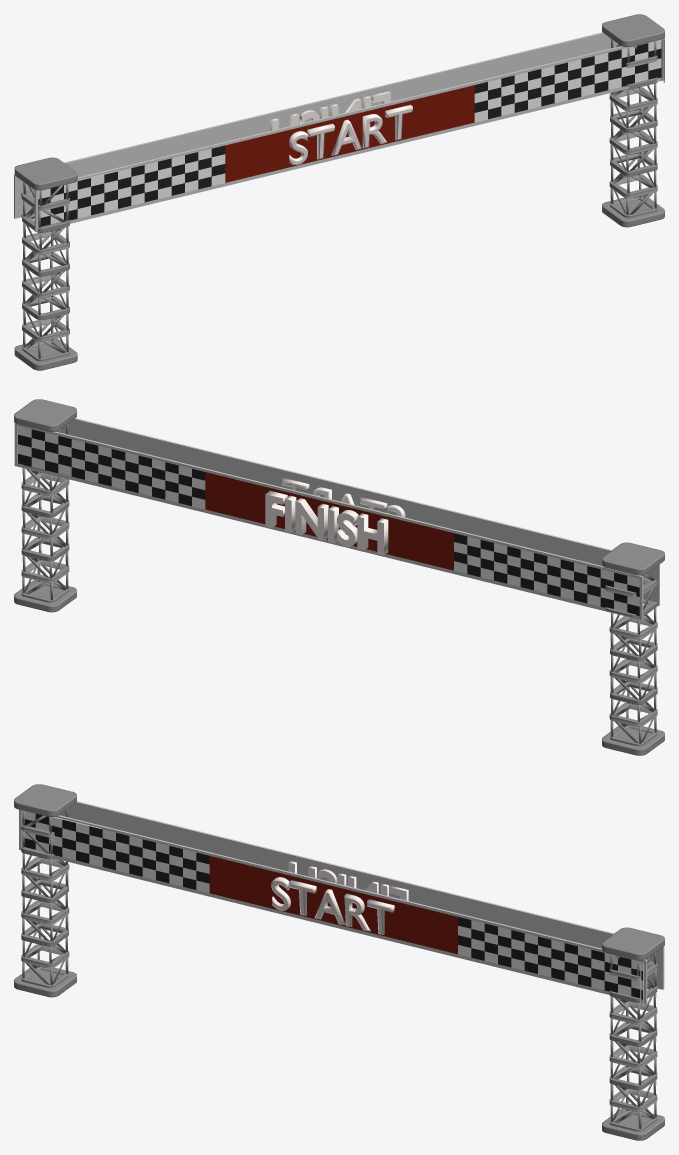
3 renders of one model, top to bottom at view 1: azimuth 30°, elevation 25°; view 2: azimuth 150°, elevation 25°; view 3: azimuth 330°, elevation 25°, orthographic.
Parts seen in each view (by area): view 1: Text.001; view 2: Text.001; view 3: Text.001.
Part boxes in pixels (x1,y1,x2,y2): Text.001: [14, 14, 664, 370]; Text.001: [14, 399, 664, 755]; Text.001: [14, 784, 664, 1140].
Size of the model in its own units: 1517 by 428 by 114.
3 materials, 1 textured.
